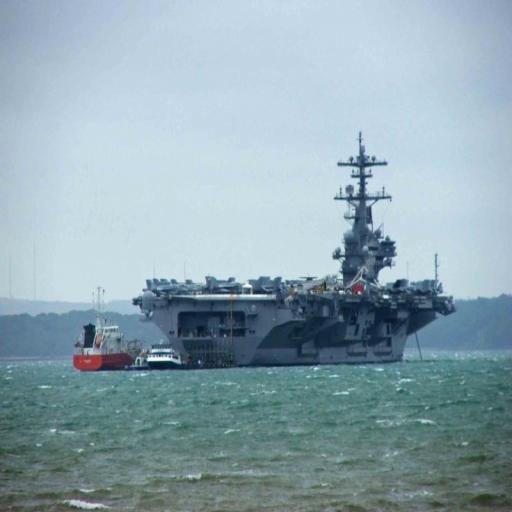Portanaves: (134, 128, 461, 374)
